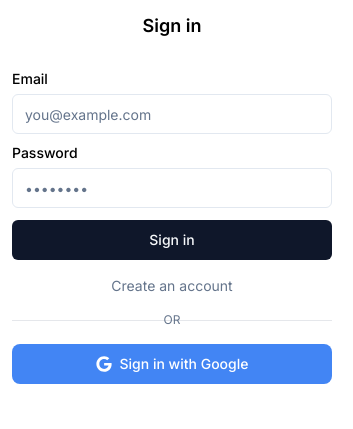
Test: Signin › should show validation error when password is empty
Type "test@example.com" into the field labelled "Email" at (172, 114), box [12,94,332,134]
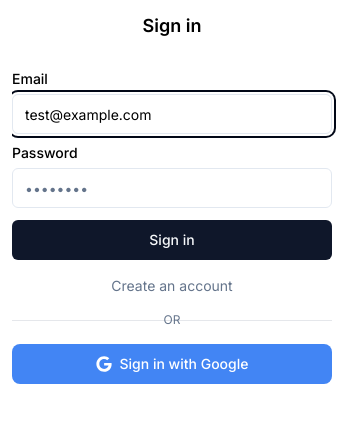
Submit the form with test id "signin-form", box [12,72,332,260]
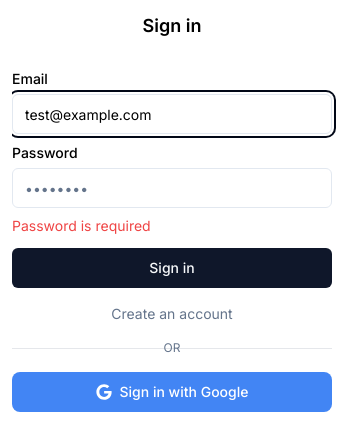
Now the text "Password is required" is shown, box [12,217,151,234]
